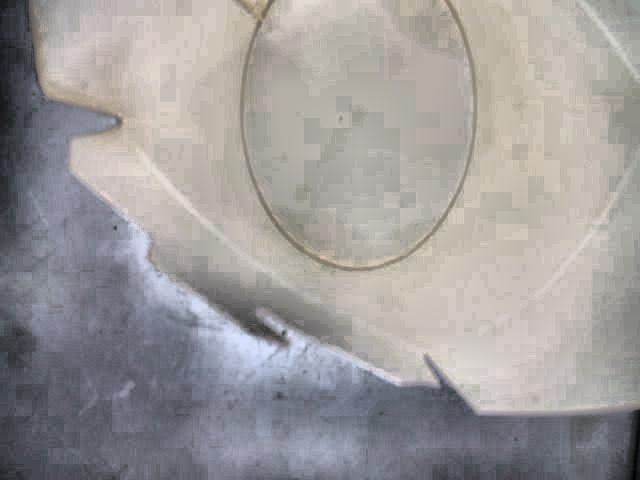Paper: (30, 0, 640, 419)
